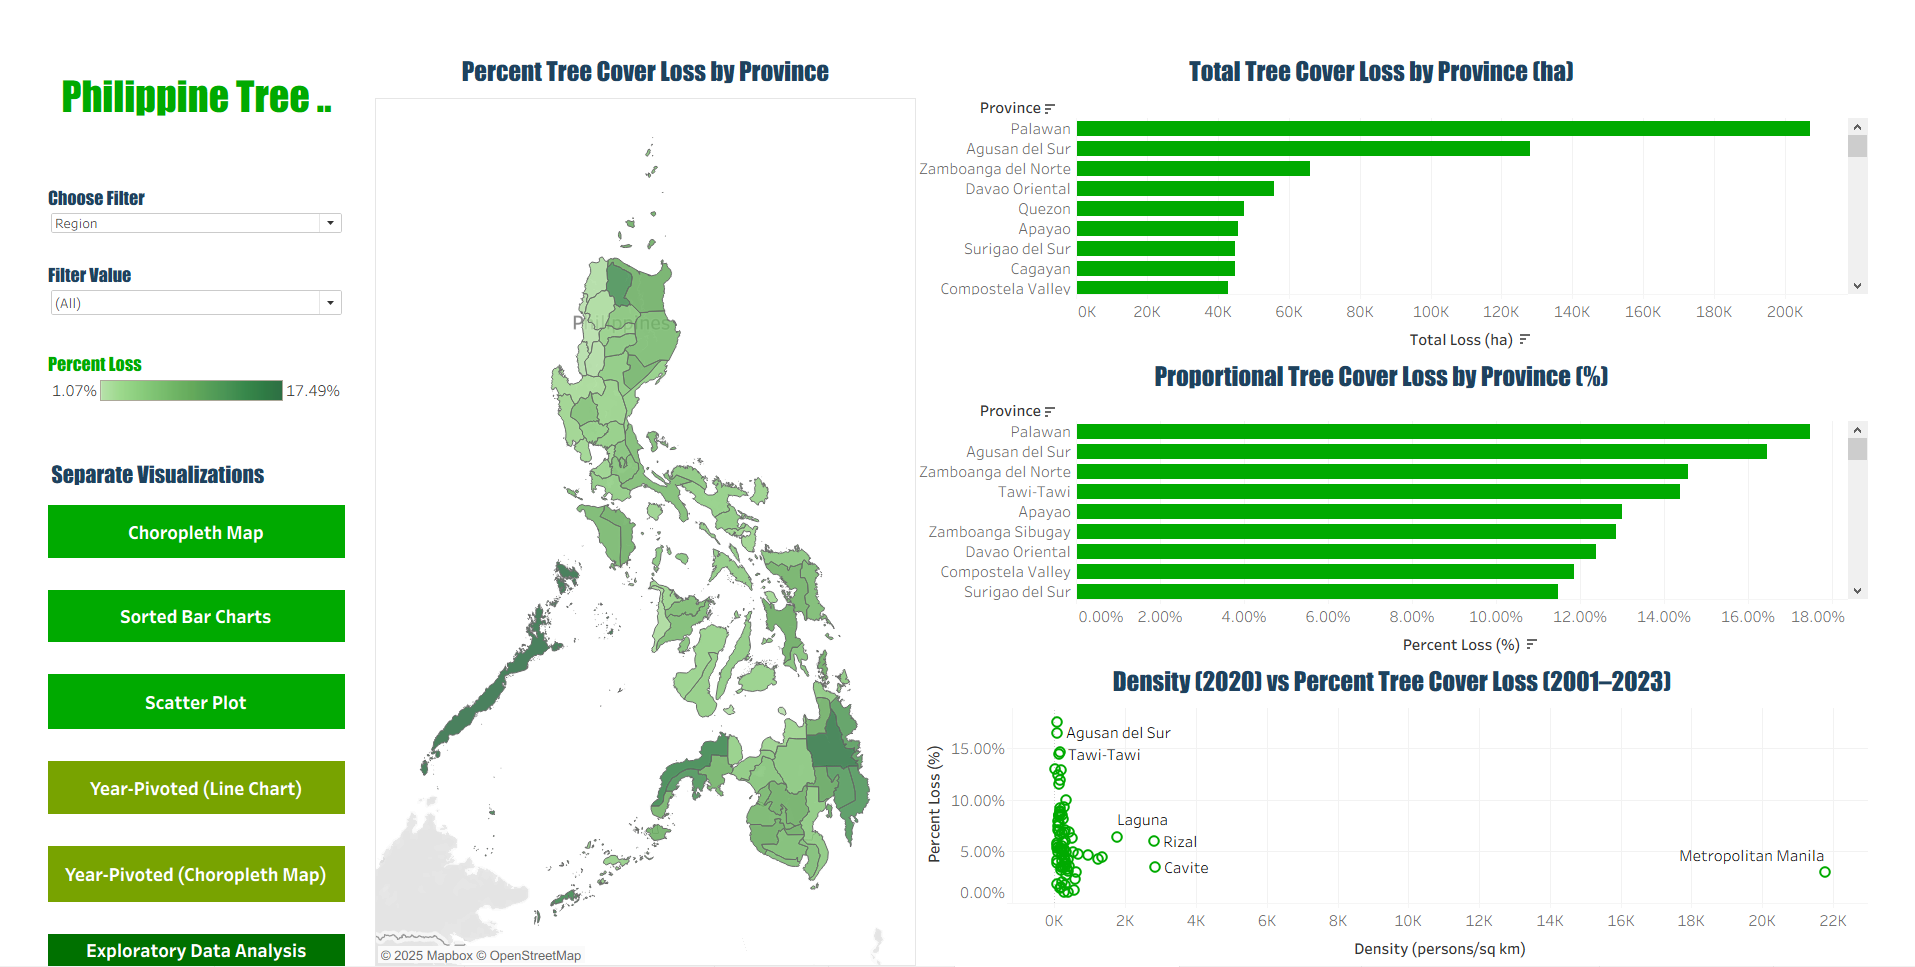

This screenshot's page, from the dashboard's own definition file:
{"tool":"tableau","page":{"name":"DV Dashboard (Combined)","canvas":[1000,1000],"units":"permille","ordinal":1},"visuals":[{"type":"text","box":[30.2,48.5,179.2,143.6]},{"type":"worksheet","title":"DV Choropleth Map","mark":"Automatic","box":[227.5,48.5,326.5,951.5]},{"type":"worksheet","title":"DV Sorted Bar Chart – Total Loss","mark":"Automatic","rows":["subnational1"],"cols":["Calculation_1583578232284360727"],"box":[554,48.5,446,317.2]},{"type":"parameter","param":"[Parameters].[Parameter 1]","box":[30.2,236.7,179.2,74.7]},{"type":"filter","title":"DV Choropleth Map","param":"[federated.1mqo3vk0wnha1l1f2dvd71prhzlq].[none:Calculation_1559089909960650754:n","box":[30.2,311.4,179.2,86.3]},{"type":"worksheet","title":"DV Sorted Bar Chart – Percent Loss","mark":"Automatic","rows":["subnational1"],"cols":["Calculation_1583578232284450840"],"box":[554,365.7,446,317.2]},{"type":"legend","title":"DV Choropleth Map","param":"[federated.1mqo3vk0wnha1l1f2dvd71prhzlq].[sum:Calculation_1583578232284450840:qk","box":[30.2,397.7,179.2,90.2]},{"type":"text","box":[30.2,487.9,179.2,60.1]},{"type":"dashboard-object","box":[30.2,548,179.2,51.4]},{"type":"dashboard-object","box":[30.2,630.5,179.2,50.4]},{"type":"worksheet","title":"DV Scatter Plot","mark":"Automatic","rows":["Calculation_1583578232284450840"],"cols":["density2020"],"box":[554,682.8,446,317.2]},{"type":"dashboard-object","box":[30.2,711.9,179.2,53.4]},{"type":"dashboard-object","box":[30.2,797.9,179.2,51.4]},{"type":"dashboard-object","box":[30.2,880.4,179.2,54.3]},{"type":"dashboard-object","box":[30.2,967.3,179.2,32.7]}]}

Visuals, with their boxes on the dashboard's canvas, which has no fixed pixel size, in thousandths of its width and height (x1, y1, x2, y2). These are canvas units, not pixel positions in the 1915x967 screenshot, which may show the page scaled, cropped or inside an application window:
text: {"left": 30, "top": 48, "right": 209, "bottom": 192}
"DV Choropleth Map" worksheet: {"left": 228, "top": 48, "right": 554, "bottom": 1000}
"DV Sorted Bar Chart – Total Loss" worksheet: {"left": 554, "top": 48, "right": 1000, "bottom": 366}
parameter: {"left": 30, "top": 237, "right": 209, "bottom": 311}
"DV Choropleth Map" filter: {"left": 30, "top": 311, "right": 209, "bottom": 398}
"DV Sorted Bar Chart – Percent Loss" worksheet: {"left": 554, "top": 366, "right": 1000, "bottom": 683}
"DV Choropleth Map" legend: {"left": 30, "top": 398, "right": 209, "bottom": 488}
text: {"left": 30, "top": 488, "right": 209, "bottom": 548}
dashboard-object: {"left": 30, "top": 548, "right": 209, "bottom": 599}
dashboard-object: {"left": 30, "top": 630, "right": 209, "bottom": 681}
"DV Scatter Plot" worksheet: {"left": 554, "top": 683, "right": 1000, "bottom": 1000}
dashboard-object: {"left": 30, "top": 712, "right": 209, "bottom": 765}
dashboard-object: {"left": 30, "top": 798, "right": 209, "bottom": 849}
dashboard-object: {"left": 30, "top": 880, "right": 209, "bottom": 935}
dashboard-object: {"left": 30, "top": 967, "right": 209, "bottom": 1000}
